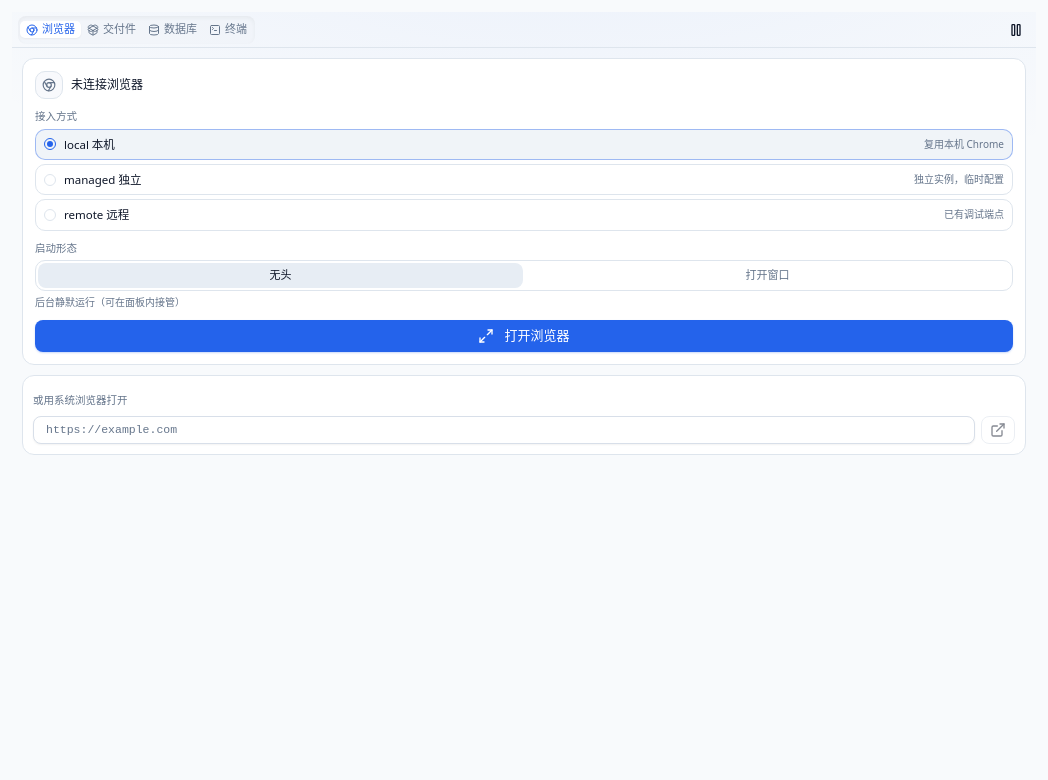
Test: LivePanel：face 条（二级导航） › 四面切换：点击 face 驱动 live-panel-store.face，非活动面卸载
Expected: the text "未连接浏览器" is shown, [71,76,143,94]
Click the tab "交付件": (112, 30) [81,21,142,38]
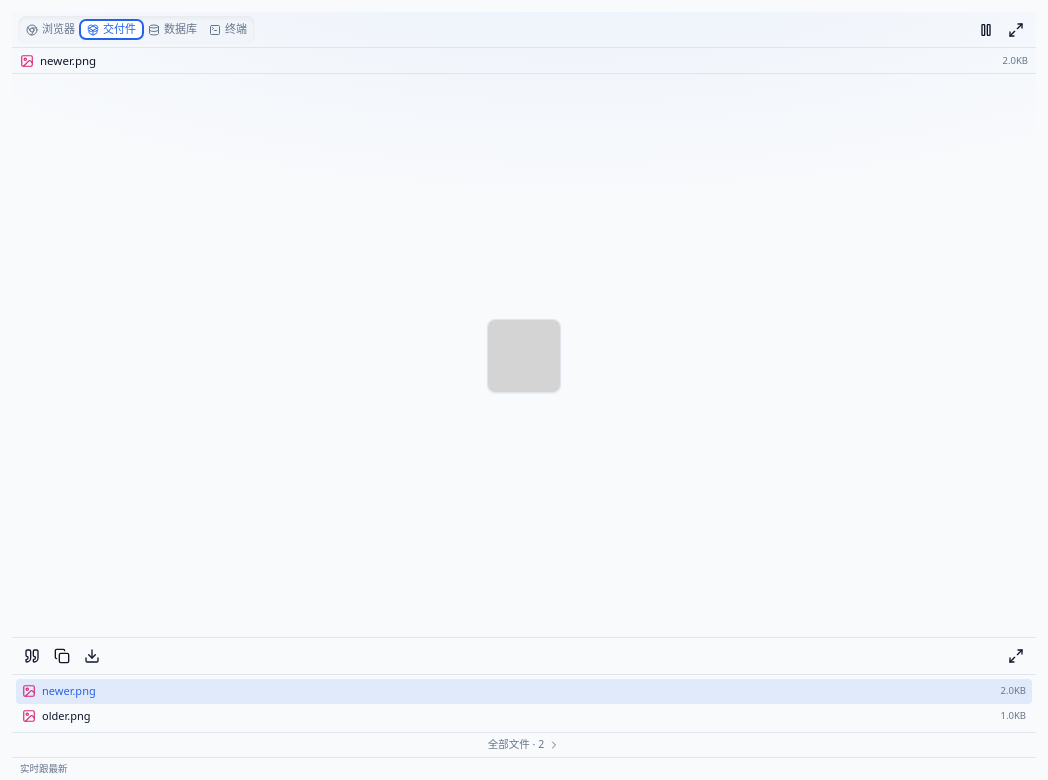
Expected: the text "未连接浏览器" is gone
Click the tab "数据库": (172, 30) [142,21,203,38]
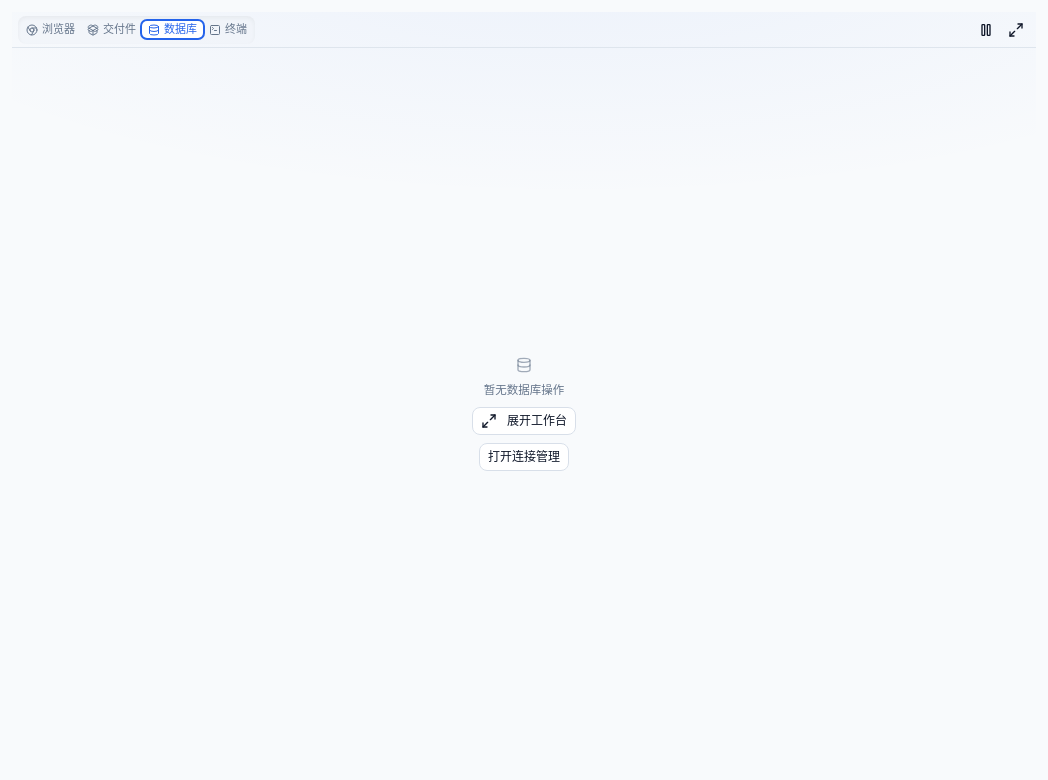
Expected: the text "暂无数据库操作" is shown, [484,381,564,399]
Click the tab "终端": (228, 30) [203,21,253,38]
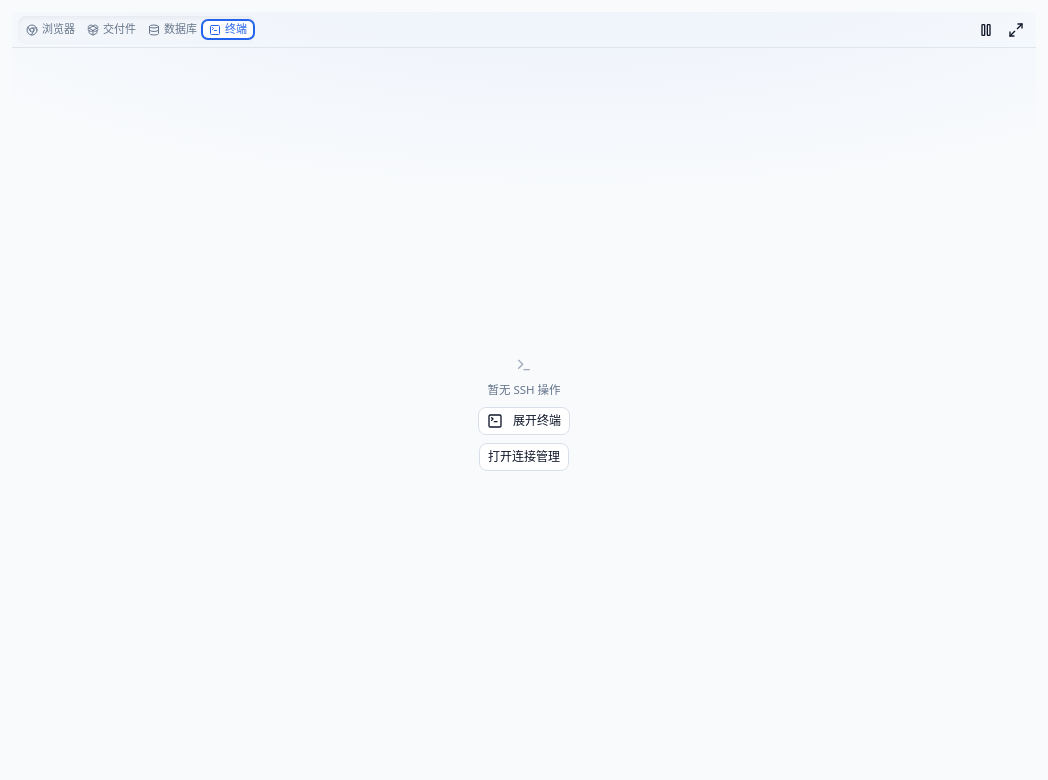
Expected: the text "暂无 SSH 操作" is shown, [487,381,560,399]
